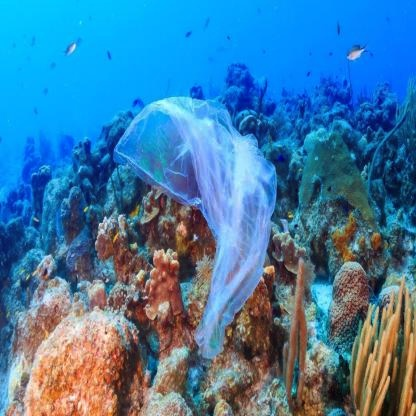pbag: (113, 96, 278, 361)
